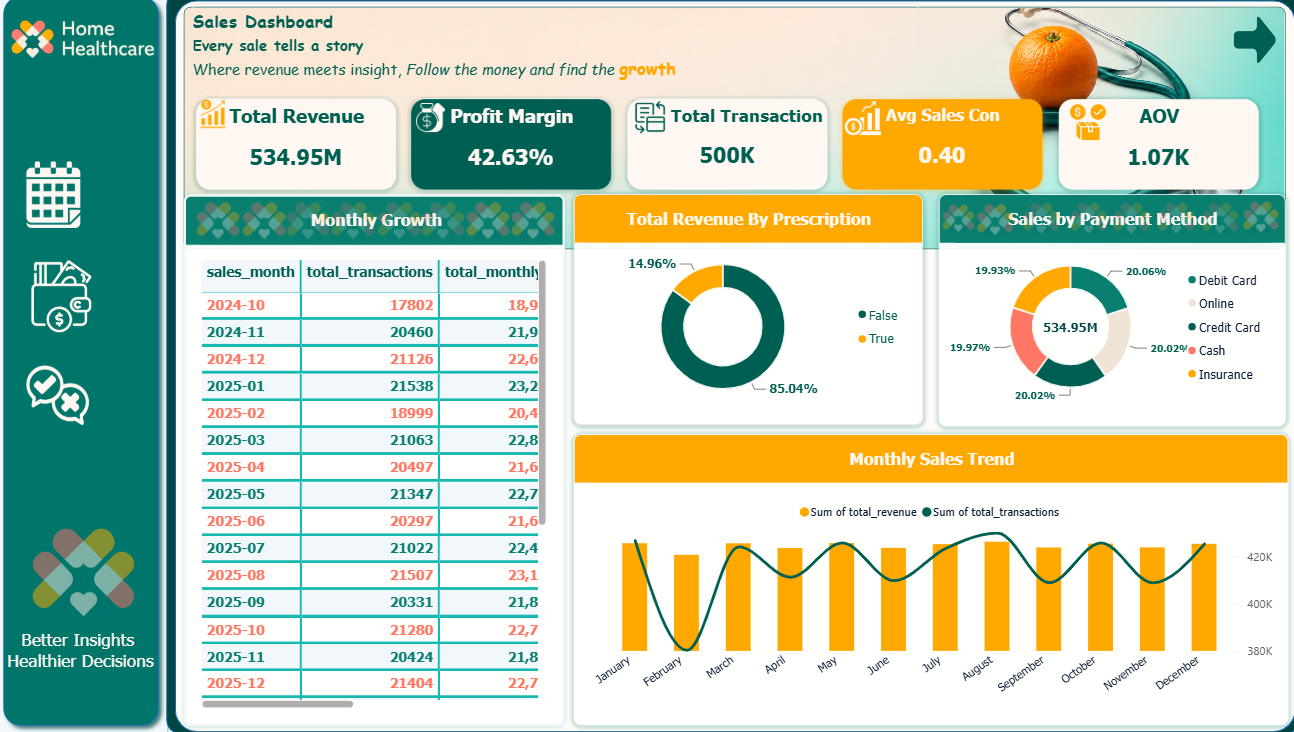

The page's visual inventory and layout, read from the dashboard file:
{"tool":"powerbi","page":{"name":"Sales Dashboard","canvas":[1400,800],"ordinal":1},"visuals":[{"type":"shape","box":[183.6,2.7,1215.8,797.6],"z":0},{"type":"image","box":[206.9,225.1,65.8,49.2],"z":0,"group":"g5"},{"type":"image","box":[1328.6,225.3,58.6,41.4],"z":0,"group":"g1"},{"type":"image","box":[256,225.1,65.8,49.2],"z":1000,"group":"g5"},{"type":"image","box":[1283.2,226.4,58.6,41.7],"z":1000,"group":"g1"},{"type":"image","box":[388.7,349.9,61.7,49.6],"z":1000},{"type":"shape","box":[192.9,12.9,1201.4,784.3],"z":2000},{"type":"image","box":[303.8,225.1,65.8,49.2],"z":2000,"group":"g5"},{"type":"image","box":[1237.3,226.4,58.6,41.7],"z":2000,"group":"g1"},{"type":"image","box":[202.9,20,1181.4,260],"z":3000},{"type":"tableEx","title":"Monthly Growth ","fields":{"Values":["healthcare_db_enhanced vw_sales_monthly.sales_month","healthcare_db_enhanced vw_sales_monthly.total_transactions","healthcare_db_enhanced vw_sales_monthly.total_monthly_revenue","healthcare_db_enhanced vw_sales_monthly.previous_revenue","healthcare_db_enhanced vw_sales_monthly.month_growth_percentage"]},"box":[202.9,221.4,408.6,570],"z":3000,"group":"g8"},{"type":"donutChart","title":"Sales by Payment Method","fields":{"Category":["healthcare_db_enhanced sales_dashboard.payment_method"],"Y":["Sum(healthcare_db_enhanced sales_dashboard.total_revenue)"]},"box":[1011.4,221.4,372.1,248.6],"z":3000,"group":"g3"},{"type":"image","box":[351.7,225.1,65.8,49.2],"z":3000,"group":"g5"},{"type":"image","box":[1188.9,226.4,58.6,41.7],"z":3000,"group":"g1"},{"type":"image","box":[400.7,225.1,65.8,49.2],"z":4000,"group":"g5"},{"type":"group","id":"g1","title":"Group 2","box":[1014.3,225.3,372.9,44],"z":4000,"group":"g3"},{"type":"image","box":[1143,226.4,58.6,41.7],"z":4000,"group":"g1"},{"type":"lineStackedColumnComboChart","title":"Monthly Sales Trend ","fields":{"Category":["healthcare_db_enhanced sales_dashboard.sales_month.Variation.Date Hierarchy.Year","healthcare_db_enhanced sales_dashboard.sales_month.Variation.Date Hierarchy.Quarter","healthcare_db_enhanced sales_dashboard.sales_month.Variation.Date Hierarchy.Month","healthcare_db_enhanced sales_dashboard.sales_month.Variation.Date Hierarchy.Day"],"Y":["Sum(healthcare_db_enhanced sales_dashboard.total_revenue)"],"Y2":["Sum(healthcare_db_enhanced sales_dashboard.total_transactions)"]},"box":[620.6,478.9,766.8,312.3],"z":4000},{"type":"pieChart","title":"Total Revenue By Prescription","fields":{"Category":["healthcare_db_enhanced sales_dashboard.is_prescription"],"Y":["Sum(healthcare_db_enhanced sales_dashboard.total_revenue)"]},"box":[620,221.4,374.3,247.1],"z":5000},{"type":"image","box":[448.6,225.1,65.8,49.2],"z":5000,"group":"g5"},{"type":"image","box":[1092,226.4,58.6,41.7],"z":5000,"group":"g1"},{"type":"group","id":"g2","title":"Group 1","box":[0,0,184.3,800],"z":6000},{"type":"image","box":[496.4,225.1,65.8,49.2],"z":6000,"group":"g5"},{"type":"image","box":[1042.3,227.6,58.6,41.7],"z":6000,"group":"g1"},{"type":"cardVisual","title":"Total Revenue","fields":{"Data":["Sum(healthcare_db_enhanced sales_dashboard.total_revenue)"]},"box":[215.8,119.6,214,97],"z":7000,"group":"g4"},{"type":"group","id":"g3","title":"Group 7","box":[1011.4,221.4,375.7,248.6],"z":7000},{"type":"image","box":[544.3,225.1,65.8,49.2],"z":7000,"group":"g5"},{"type":"image","box":[1014.3,226.4,37,41.7],"z":7000,"group":"g1"},{"type":"group","id":"g4","title":"Group 8","box":[215.8,119.6,1138.7,97],"z":8000},{"type":"image","box":[211.8,118.9,44.2,30.8],"z":9000},{"type":"cardVisual","title":"Profit Margin","fields":{"Data":["healthcare_db_enhanced sales_dashboard.Profit Margin"]},"box":[447,119.6,214,97],"z":9000,"group":"g4"},{"type":"shape","box":[0,0,184.3,800],"z":10000,"group":"g2"},{"type":"cardVisual","title":"Total Transaction","fields":{"Data":["Sum(healthcare_db_enhanced customer_payment.total_transaction)"]},"box":[678.1,119.6,214,97],"z":10000,"group":"g4"},{"type":"image","box":[445,123.3,44.2,30.8],"z":10000},{"type":"image","box":[685,116.3,34.9,44.2],"z":11000},{"type":"cardVisual","title":"AOV","fields":{"Data":["healthcare_db_enhanced sales_dashboard.AOV 2"]},"box":[1140.5,119.6,214,97],"z":11000,"group":"g4"},{"type":"image","box":[26.8,568.6,136.7,119.3],"z":11000,"group":"g6"},{"type":"image","box":[5.4,0,174.3,109.9],"z":12000,"group":"g2"},{"type":"image","box":[908.9,116.6,44.2,44.2],"z":12000},{"type":"image","box":[1150.1,122,44.2,44.2],"z":13000},{"type":"group","id":"g5","title":"Group 3","box":[206.9,225.1,403.2,46.2],"z":13000,"group":"g8"},{"type":"cardVisual","title":"Avg Sales Con","fields":{"Data":["Avg(healthcare_db_enhanced sales_dashboard.overall_sales_contribution)"]},"box":[909.3,119.6,214,97],"z":13002,"group":"g4"},{"type":"group","id":"g6","title":"Group 5","box":[0,568.6,184.3,194.3],"z":14000,"group":"g2"},{"type":"textbox","box":[0,687.9,183.6,75.1],"z":14001,"group":"g7"},{"type":"group","id":"g7","title":"Group 4","box":[0,687.9,183.6,75.1],"z":15000,"group":"g6"},{"type":"image","title":"Image payment","box":[22.6,291.8,96.5,76.4],"z":17000},{"type":"image","title":"Image presription","box":[18.3,399.8,97,76],"z":18000},{"type":"image","title":"Image calender 2","box":[13.3,183.7,98.5,75.8],"z":19000},{"type":"image","title":"Image payment 2","box":[22.7,291.7,96.5,76.4],"z":20000},{"type":"image","title":"Image presription 2","box":[18.9,397.7,97,76],"z":21000},{"type":"group","id":"g8","title":"Group 6","box":[202.9,221.4,408.6,570],"z":22000},{"type":"textbox","box":[211.8,16.1,778.8,103.2],"z":24000},{"type":"shape","box":[1328.4,28.2,46.9,55],"z":25000}]}

Visuals, with their boxes in screenshot pixels (x1, y1, x2, y2), scaled from the page's 1400x800 canvas onto the 1294x732 screenshot:
shape: 170 2 1293 731
image: 191 206 252 251
image: 1228 206 1282 244
image: 237 206 297 251
image: 1186 207 1240 245
image: 359 320 416 366
shape: 178 12 1289 729
image: 281 206 342 251
image: 1144 207 1198 245
image: 188 18 1279 256
"Monthly Growth " tableEx: 188 203 565 724
"Sales by Payment Method" donutChart: 935 203 1279 430
image: 325 206 386 251
image: 1099 207 1153 245
image: 370 206 431 251
"Group 2" group: 938 206 1282 246
image: 1056 207 1111 245
"Monthly Sales Trend " lineStackedColumnComboChart: 574 438 1282 724
"Total Revenue By Prescription" pieChart: 573 203 919 429
image: 415 206 475 251
image: 1009 207 1063 245
"Group 1" group: 0 0 170 731
image: 459 206 520 251
image: 963 208 1018 246
"Total Revenue" cardVisual: 199 109 397 198
"Group 7" group: 935 203 1282 430
image: 503 206 564 251
image: 938 207 972 245
"Group 8" group: 199 109 1252 198
image: 196 109 237 137
"Profit Margin" cardVisual: 413 109 611 198
shape: 0 0 170 731
"Total Transaction" cardVisual: 627 109 825 198
image: 411 113 452 141
image: 633 106 665 147
"AOV" cardVisual: 1054 109 1252 198
image: 25 520 151 629
image: 5 0 166 101
image: 840 107 881 147
image: 1063 112 1104 152
"Group 3" group: 191 206 564 248
"Avg Sales Con" cardVisual: 840 109 1038 198
"Group 5" group: 0 520 170 698
textbox: 0 629 170 698
"Group 4" group: 0 629 170 698
"Image payment" image: 21 267 110 337
"Image presription" image: 17 366 107 435
"Image calender 2" image: 12 168 103 237
"Image payment 2" image: 21 267 110 337
"Image presription 2" image: 17 364 107 433
"Group 6" group: 188 203 565 724
textbox: 196 15 916 109
shape: 1228 26 1271 76
